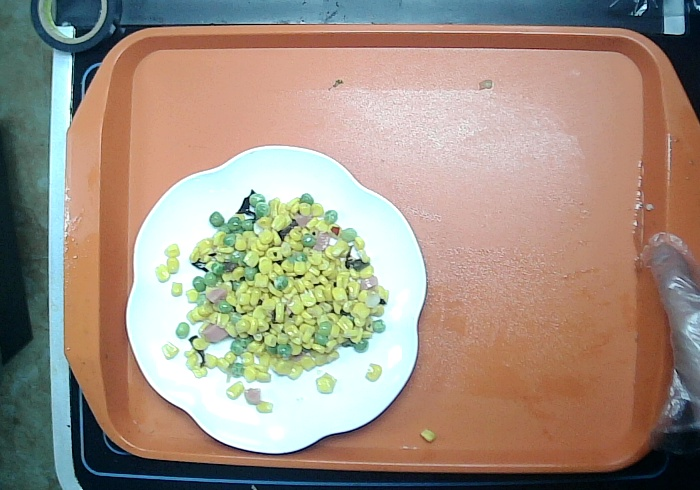HZYJPL-Bai_Se_Hua_Duo_Wan: (121, 138, 428, 460)
